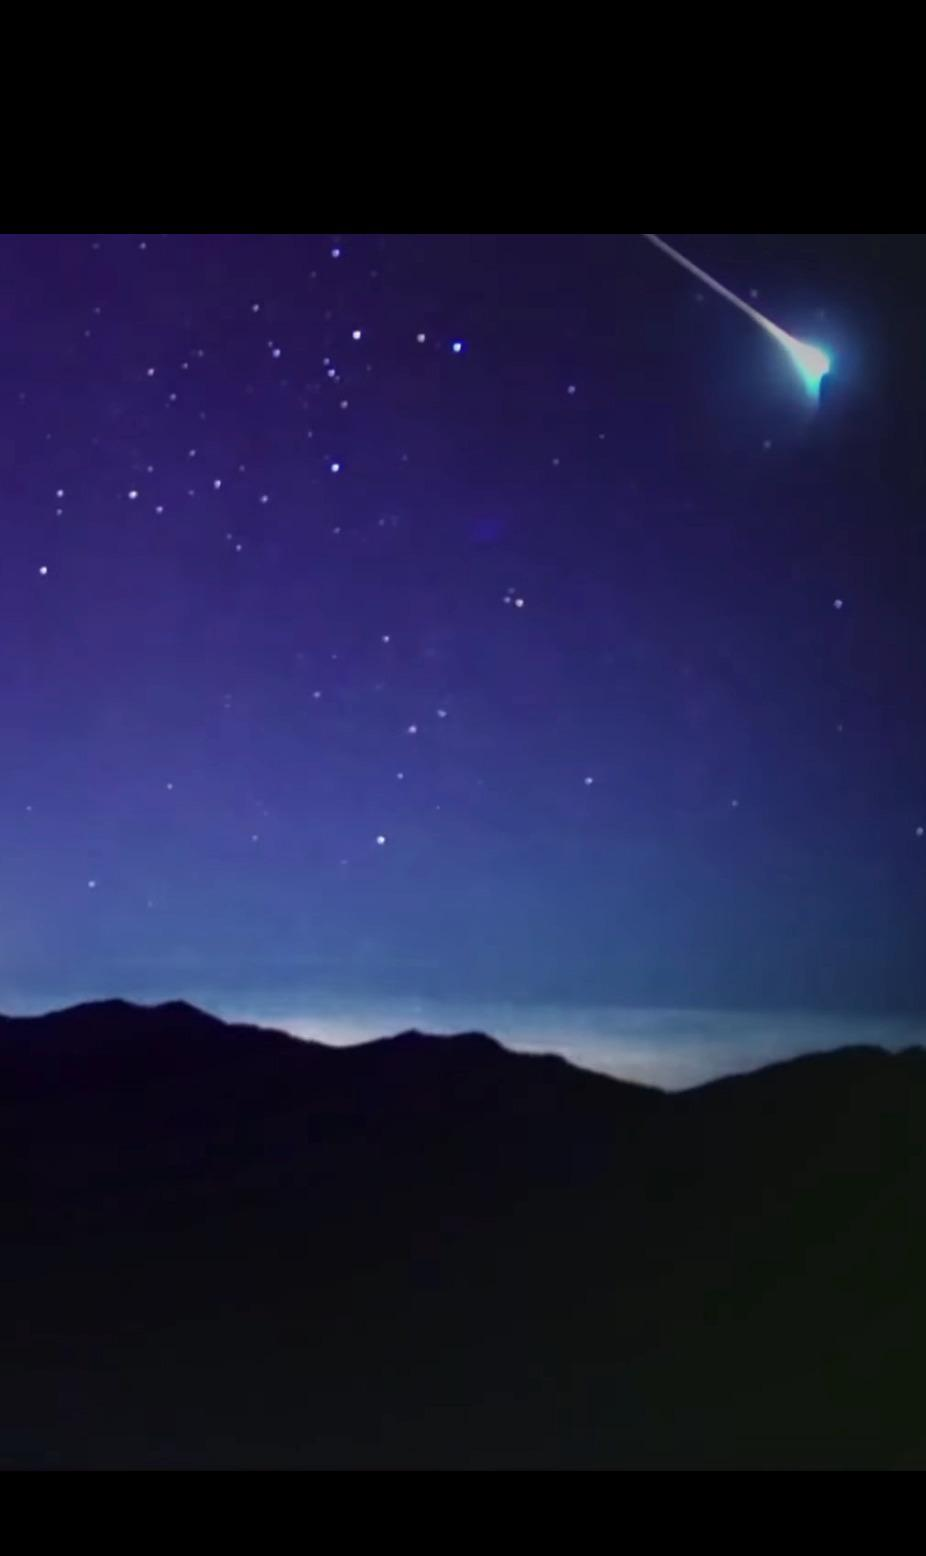meteorite: (632, 237, 839, 417)
